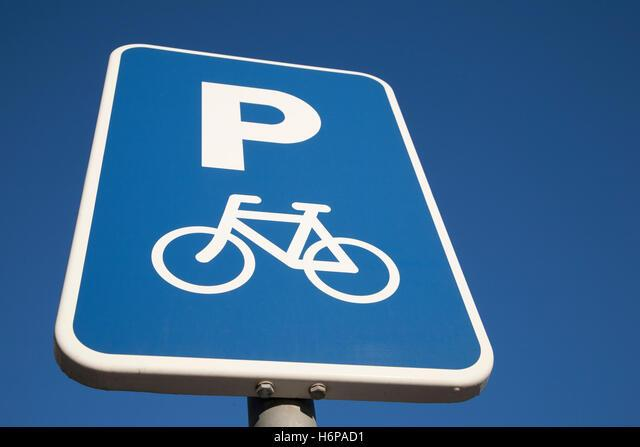Parking Lot Cycle: (107, 40, 432, 354)
